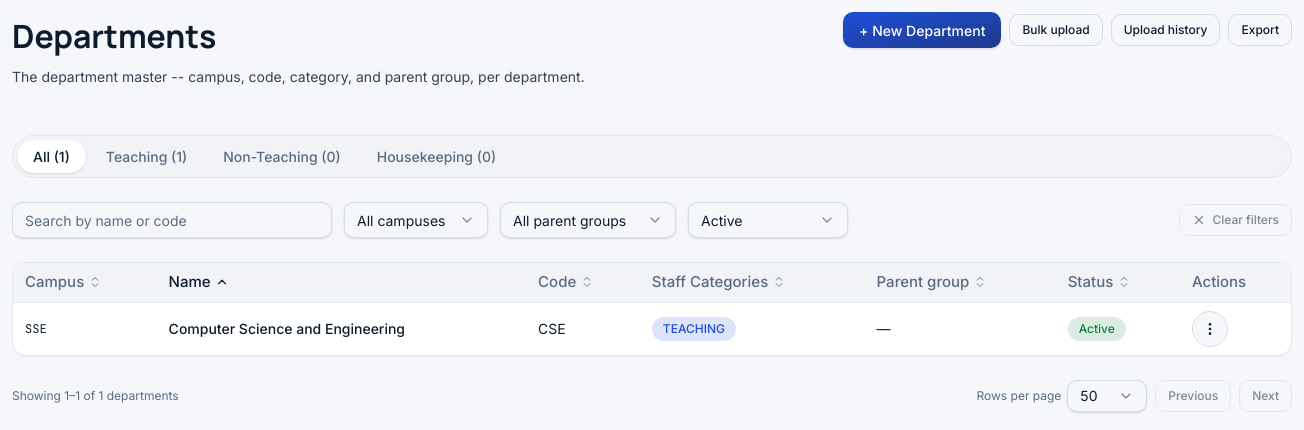
DepartmentsPage › re-fetches with is_active: false when the Active filter is switched to Inactive
The width and height of the screenshot is (1304, 430).
Expected: the text "Computer Science and Engineering" is shown, [157,302,526,354]
Click the dropdown named "Active filter" at (768, 220), box [688,202,848,238]
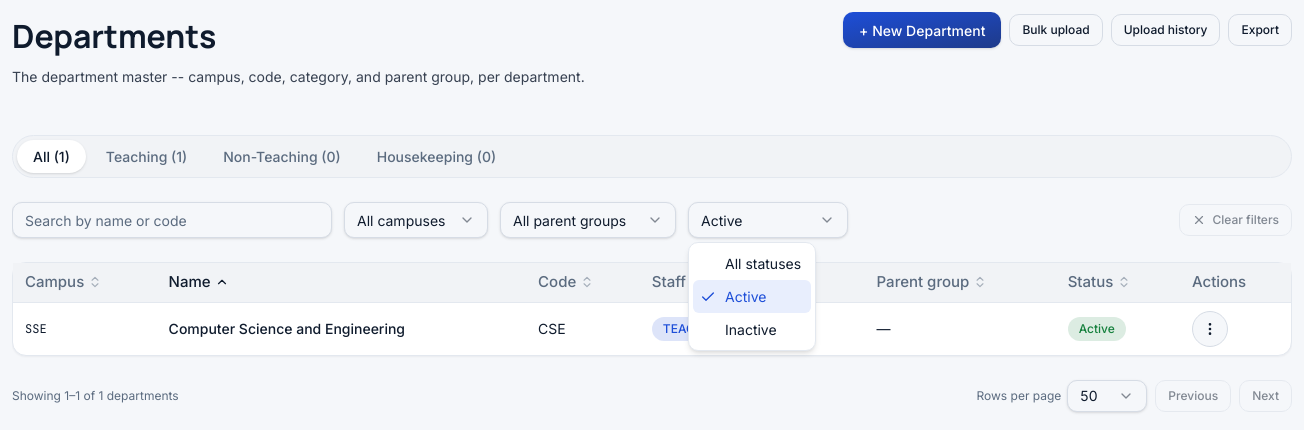
Click the option "Inactive" at (751, 330), box [725,321,777,338]
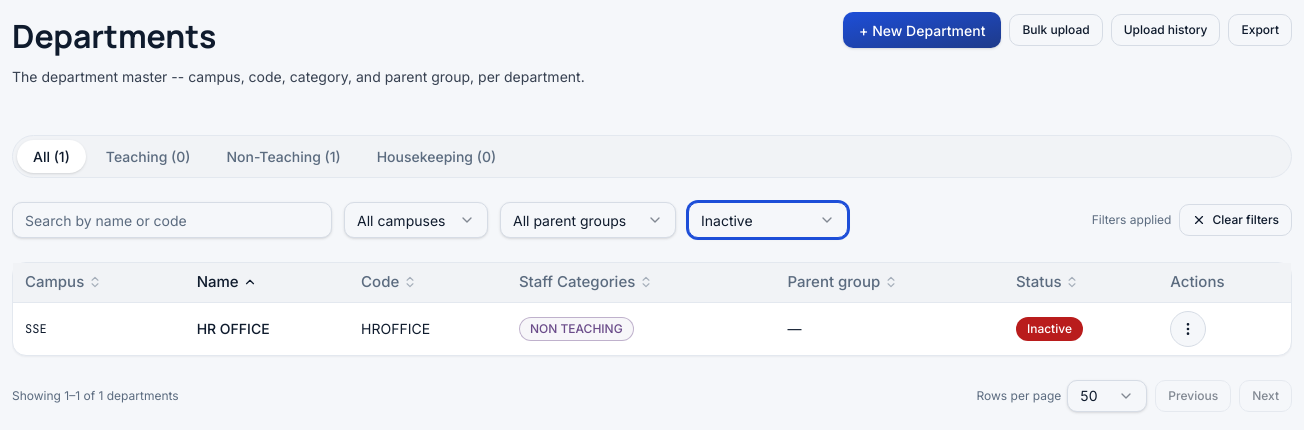
Expected: the text "HR OFFICE" is shown, [185,302,349,354]
